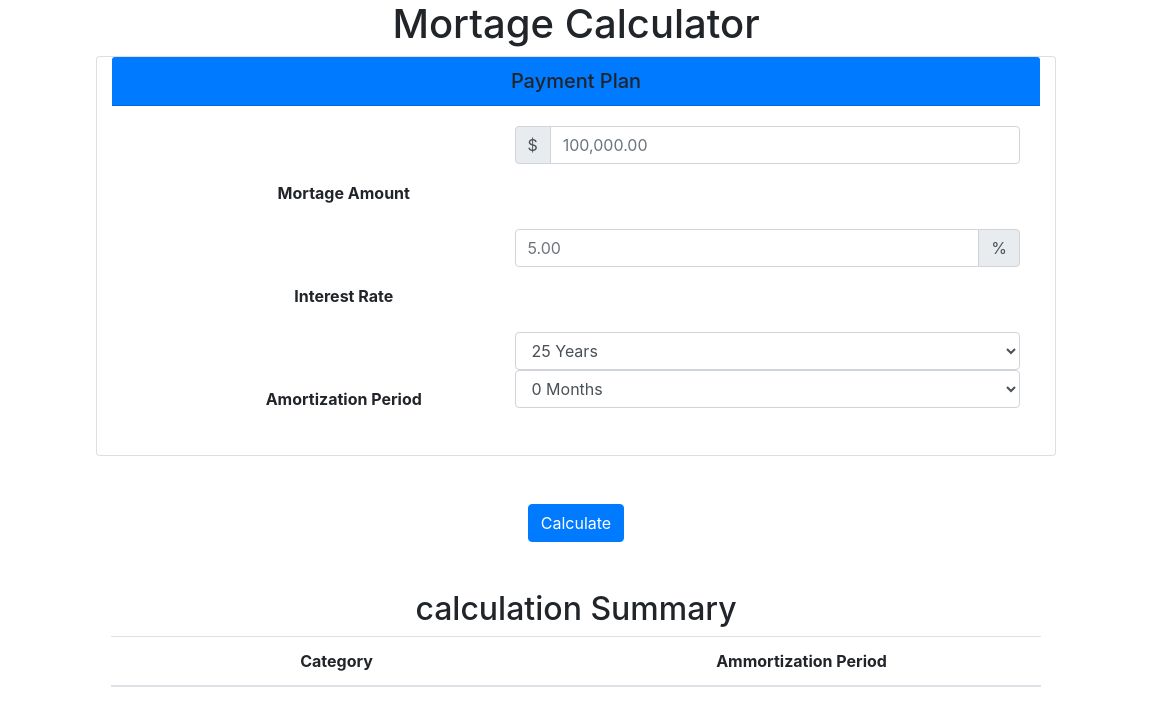
Scenario: Checking app functionality › change Inputs and check the values displayed in the table
Type "200000" into the number field labelled "Mortage Amount".
click(785, 145); type("200000")  # box x1=550 y1=126 x2=1020 y2=164
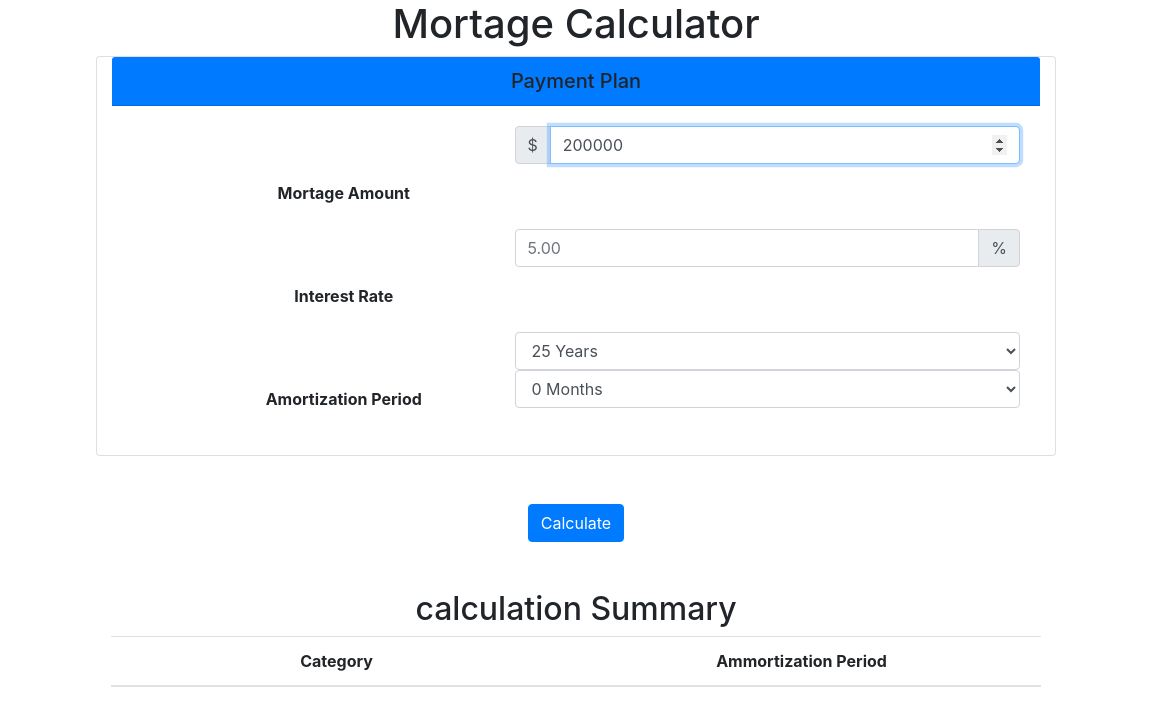
Type "10" into the number field labelled "Interest Rate".
click(747, 248); type("10")  # box x1=514 y1=229 x2=979 y2=267
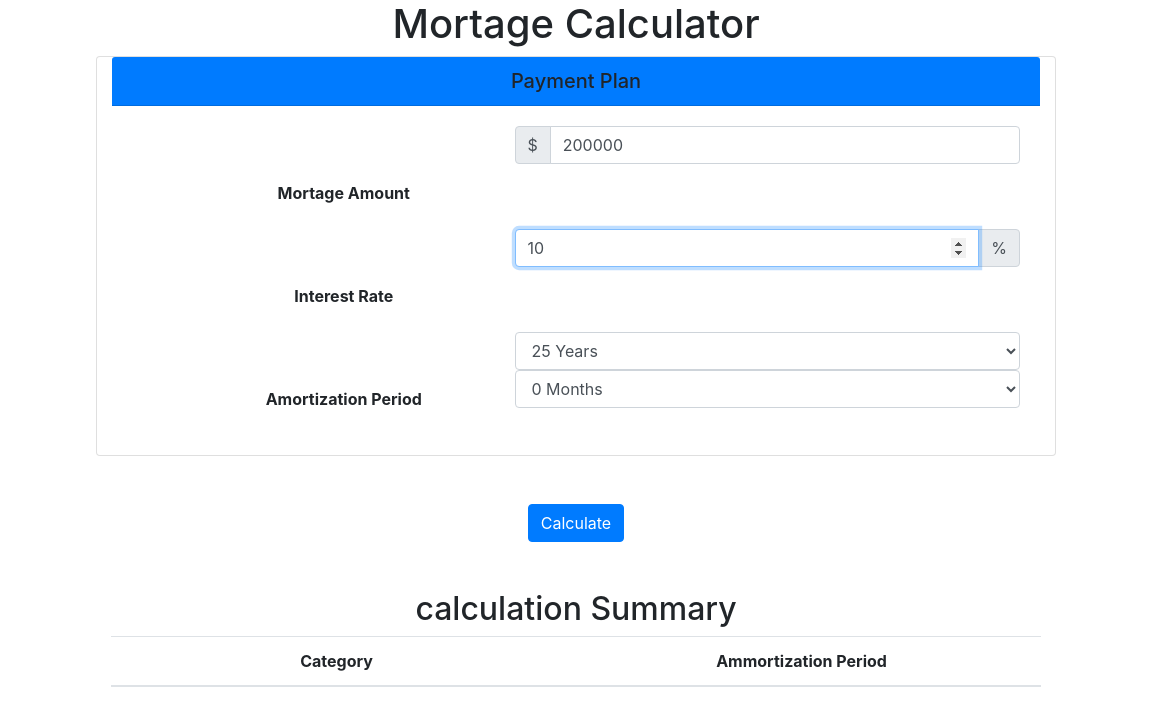
# we should add more changes here
Click the button "Calculate".
click(576, 523)  # box x1=528 y1=504 x2=624 y2=542
(page scrolled)
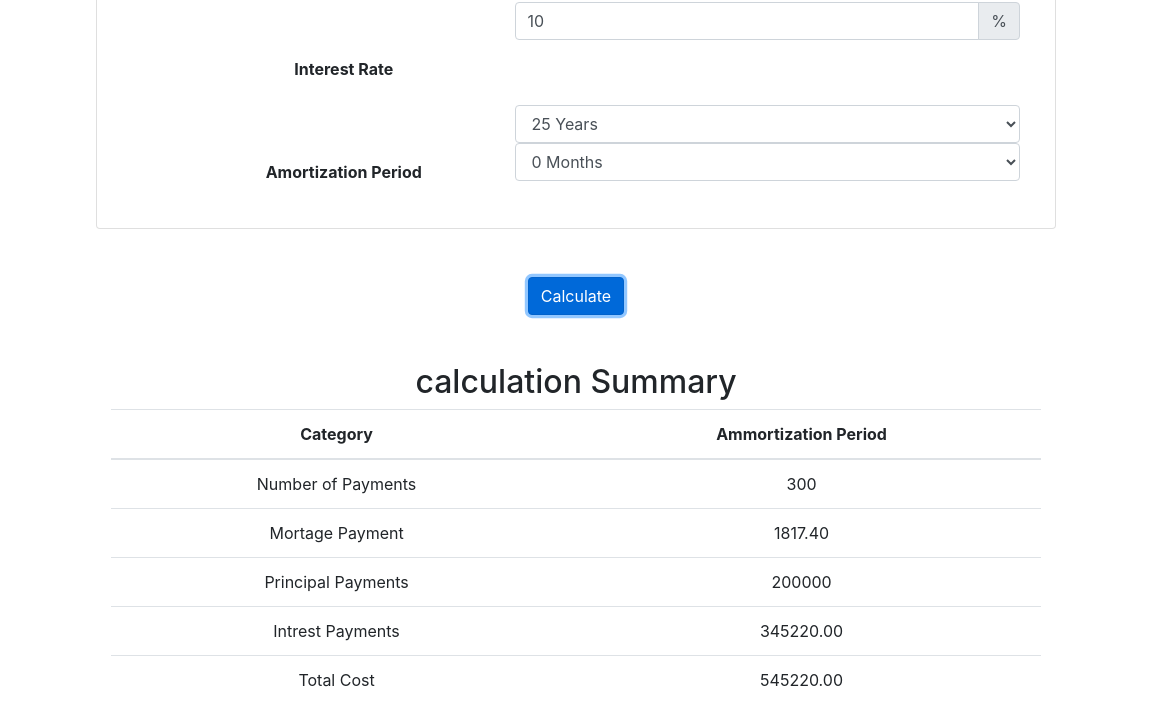
expect the row "Mortage Payment 1817.40" is shown: met, box x1=111 y1=509 x2=1041 y2=558
expect the row "Principal Payments 200000" is shown: met, box x1=111 y1=558 x2=1041 y2=607
expect the row "Intrest Payments 345220.00" is shown: met, box x1=111 y1=607 x2=1041 y2=656
